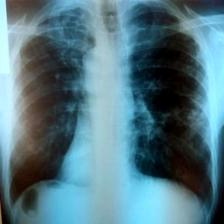tuberculosis: (4, 2, 218, 224)
